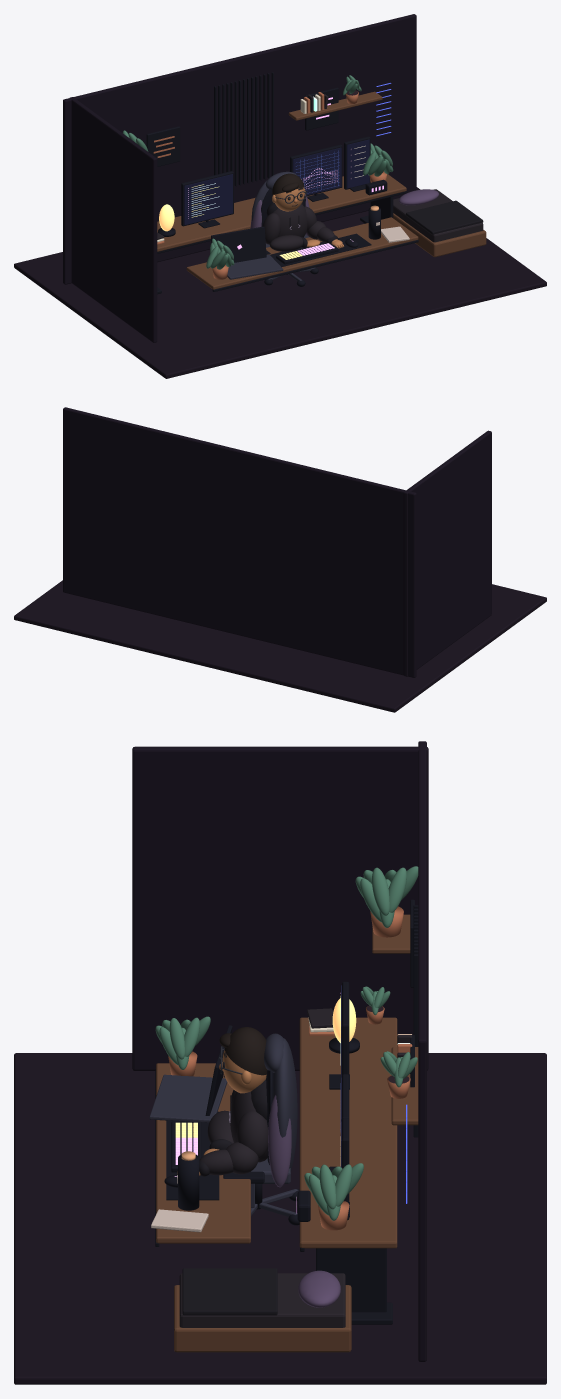
Rendered from room.glb.
The picture shows the model from 3 angles, top to bottom: view 1: azimuth 30°, elevation 25°; view 2: azimuth 150°, elevation 25°; view 3: azimuth 270°, elevation 25°; orthographic projection. The views are drawn at different scales.
Visible parts, largest first — view 1: Room_wall, Room_floor, Room_black, Room_wood, Body_hoodie, Monitor0_screen, Monitor1_screen, Room_leaf, Room_cuff, Room_chair, Room_hoodie, Monitor2_screen (+8 smaller); view 2: Room_wall, Room_floor; view 3: Room_floor, Room_wall, Room_wood, Room_black, Room_leaf, Room_chair, Room_hoodie, Room_cuff, Body_hoodie, Room_piping, Room_terra, Head_Doll espresso hair (+5 smaller).
Boxes of the visible parts, left/top/right/bottom form: Room_wall: left=63, top=14, right=416, bottom=342; Room_floor: left=14, top=187, right=546, bottom=378; Room_black: left=146, top=72, right=418, bottom=294; Room_wood: left=157, top=91, right=486, bottom=289; Body_hoodie: left=262, top=204, right=334, bottom=251; Monitor0_screen: left=184, top=174, right=232, bottom=224; Monitor1_screen: left=293, top=147, right=341, bottom=195; Room_leaf: left=123, top=75, right=393, bottom=269; Room_cuff: left=406, top=200, right=483, bottom=234; Room_chair: left=227, top=171, right=315, bottom=280; Room_hoodie: left=157, top=94, right=483, bottom=242; Monitor2_screen: left=347, top=139, right=369, bottom=188; Room_wall: left=63, top=407, right=491, bottom=677; Room_floor: left=14, top=580, right=546, bottom=712; Room_floor: left=14, top=1053, right=546, bottom=1384; Room_wall: left=132, top=741, right=428, bottom=1361; Room_wood: left=156, top=914, right=418, bottom=1352; Room_black: left=155, top=899, right=418, bottom=1324; Room_leaf: left=155, top=866, right=418, bottom=1220; Room_chair: left=149, top=1033, right=298, bottom=1216; Room_hoodie: left=179, top=1008, right=412, bottom=1327; Room_cuff: left=182, top=1268, right=277, bottom=1315; Body_hoodie: left=199, top=1090, right=268, bottom=1175; Room_piping: left=268, top=1095, right=340, bottom=1307; Room_terra: left=168, top=906, right=412, bottom=1230; Head_Doll espresso hair: left=219, top=1027, right=267, bottom=1075.
Bounding box in the file's own units: 13 × 6.2 × 9.
